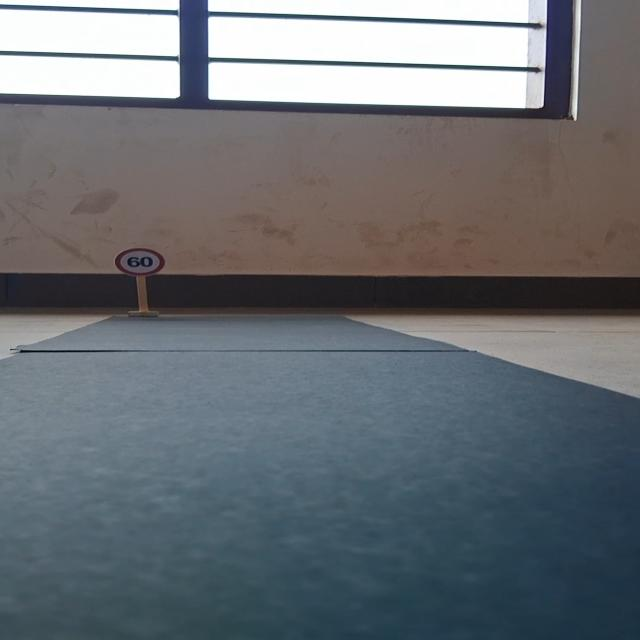Speed60: (114, 248, 168, 276)
